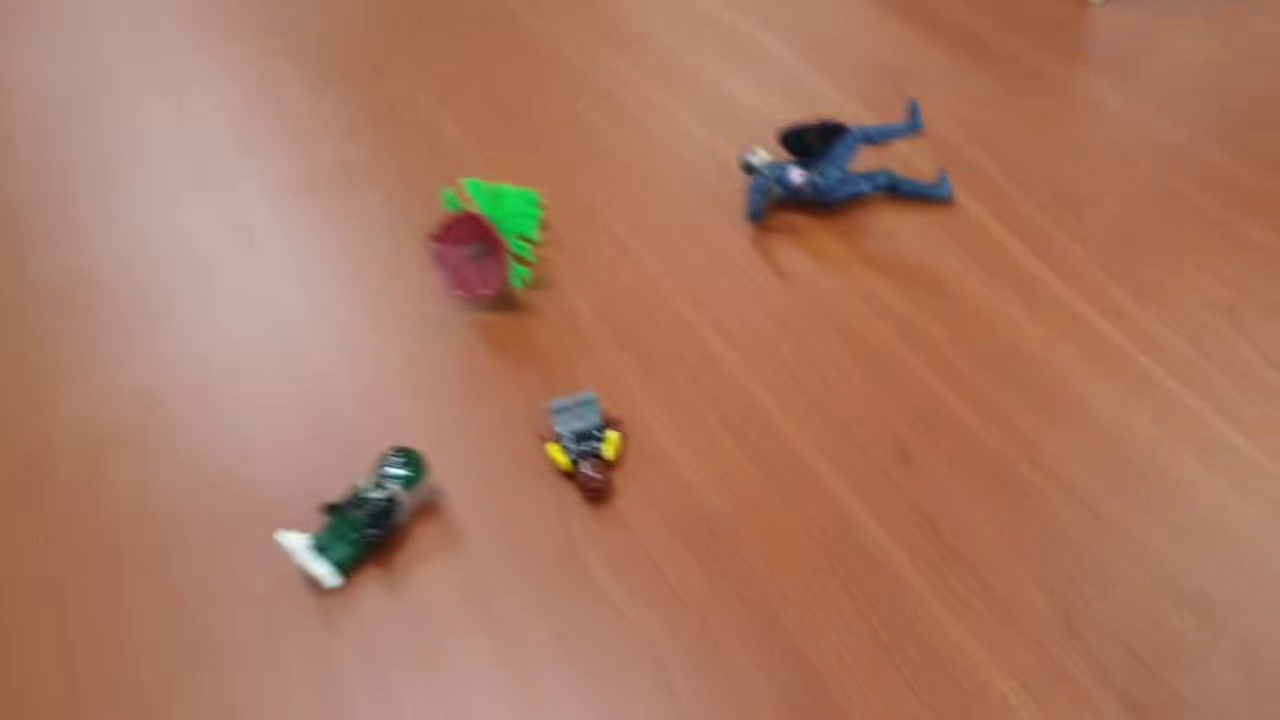people: (728, 96, 954, 237), (267, 440, 440, 595), (537, 387, 631, 513)
tree: (418, 170, 550, 308)
